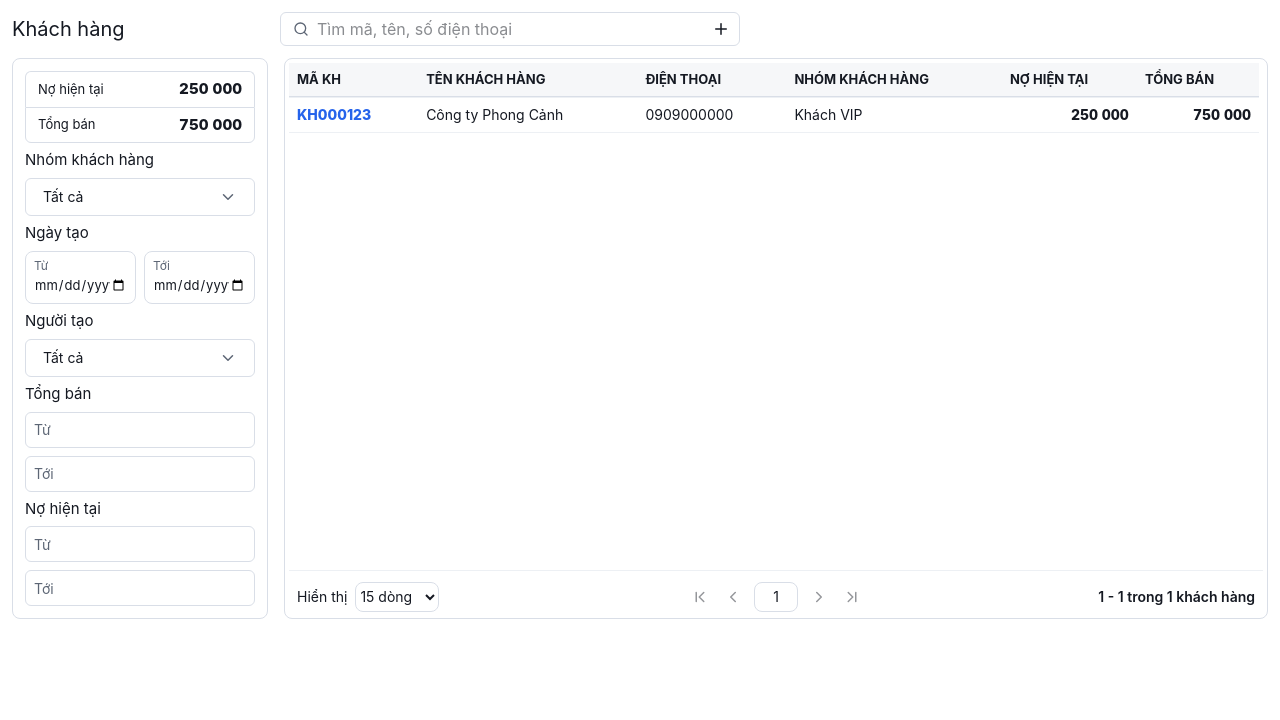
Test case: shows customer create errors inside the modal
Check: the text "KH000123" is shown, box [297,106,371,124]
Click the button named "Tạo khách hàng" at (721, 29), box [708,16,734,42]
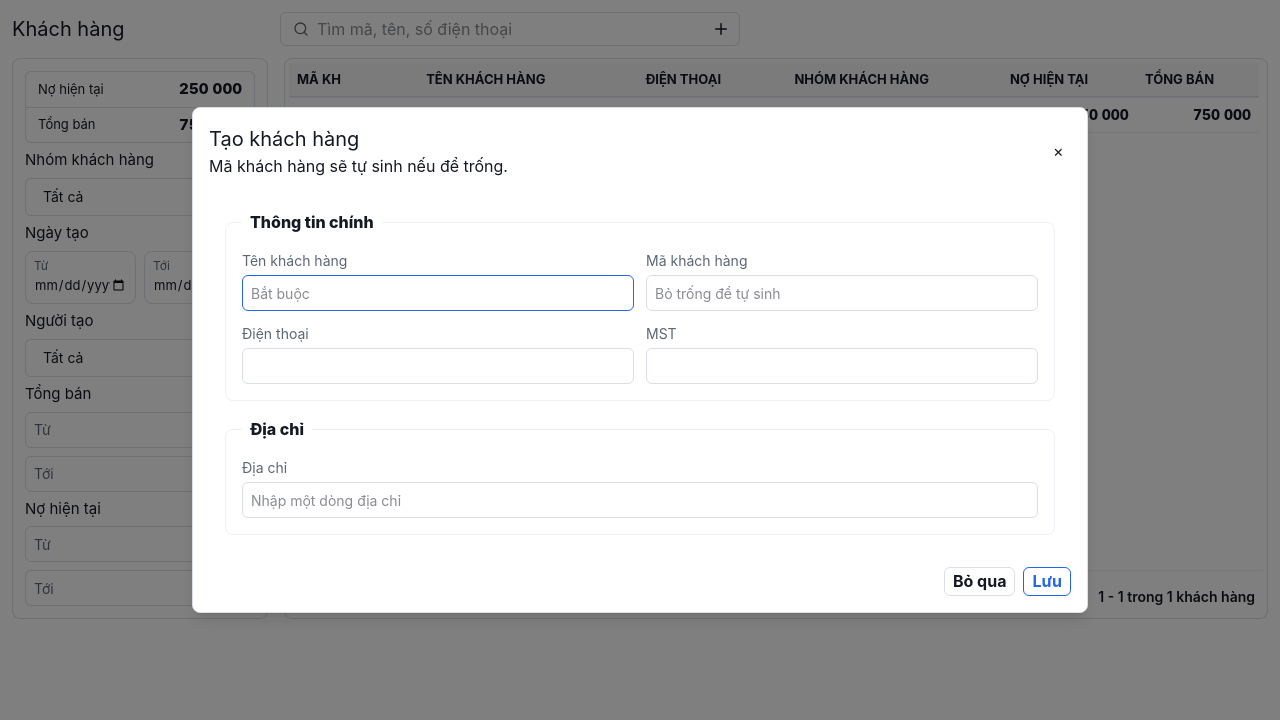
Type "Khách bị lỗi" into the field labelled "Tên khách hàng" at (438, 293), box [242,275,634,311]
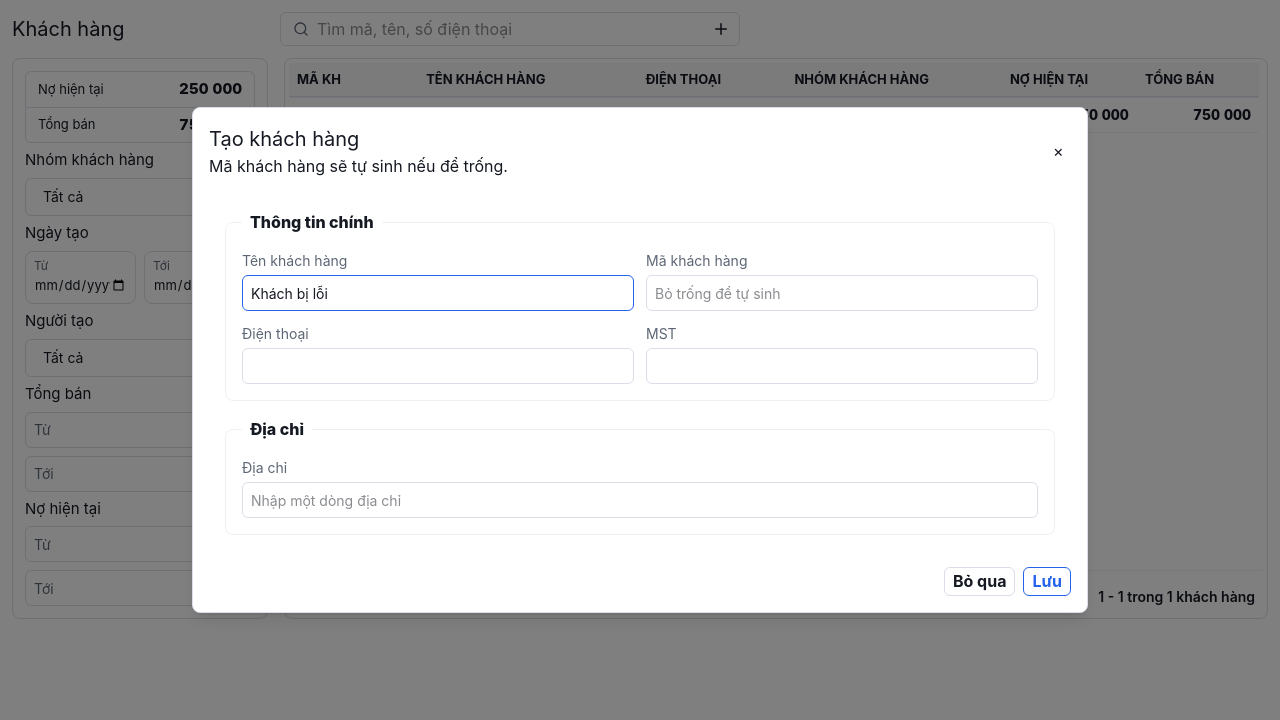
Click the button "Lưu" at (1047, 582), box [1023,567,1071,596]
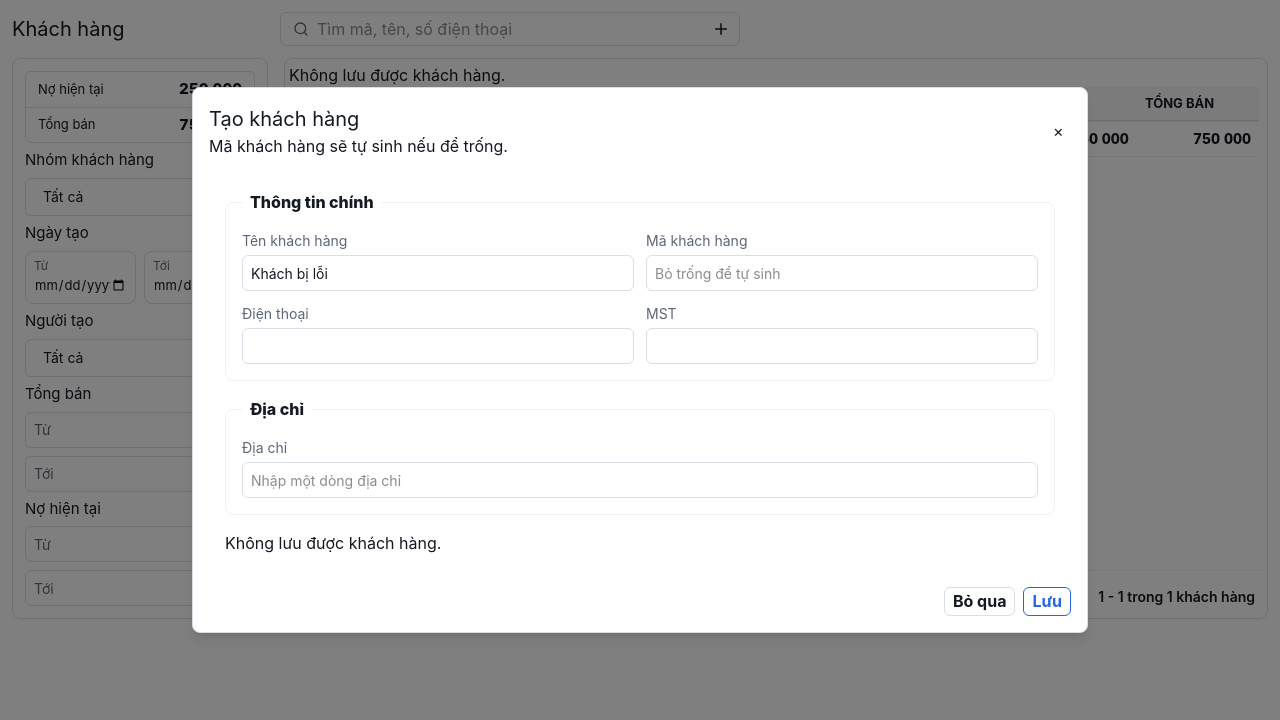
Check: the message reads "Không lưu được khách hàng.", box [225,533,441,553]
